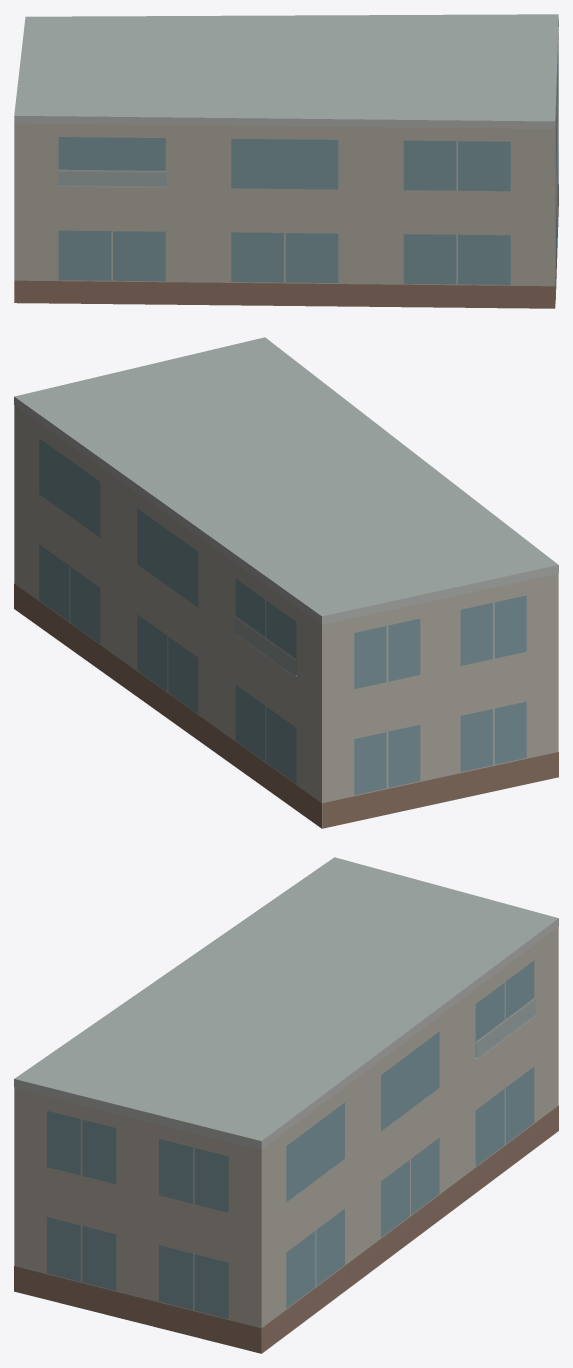
Rendered from survey-upis-32966134.glb.
The picture shows the model from 3 angles, top to bottom: view 1: azimuth 30°, elevation 25°; view 2: azimuth 150°, elevation 25°; view 3: azimuth 270°, elevation 25°; orthographic projection. The views are drawn at different scales.
Visible parts, largest first — view 1: survey-upis-32966134.tmp; view 2: survey-upis-32966134.tmp; view 3: survey-upis-32966134.tmp.
Part boxes in pixels (x1,y1,x2,y2): survey-upis-32966134.tmp: [14, 14, 558, 308]; survey-upis-32966134.tmp: [14, 337, 558, 828]; survey-upis-32966134.tmp: [14, 857, 558, 1353].
Size of the model in its own units: 17.49 by 6.1 by 14.17.
